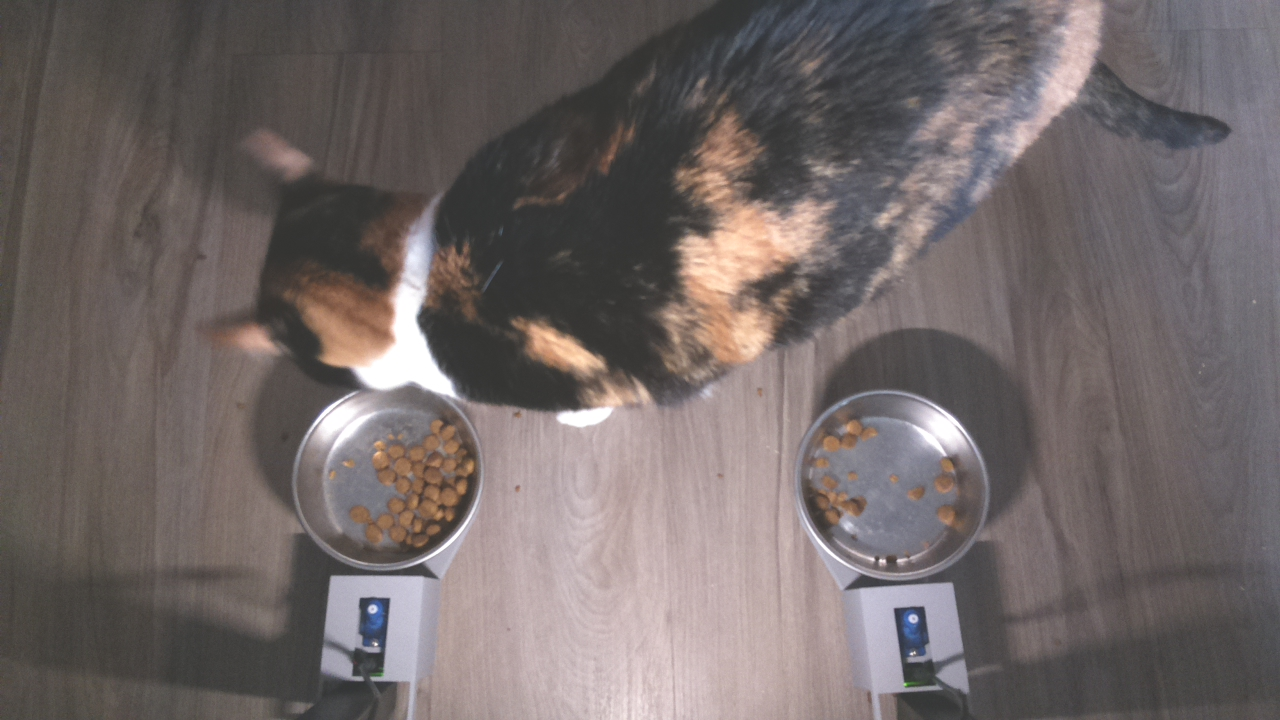bella: (193, 112, 475, 409)
open_bowl: (791, 386, 993, 584), (284, 392, 486, 573)
